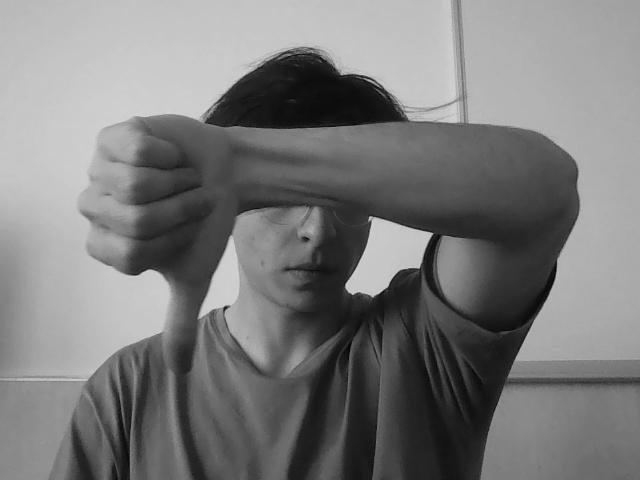bad: (97, 94, 251, 384)
